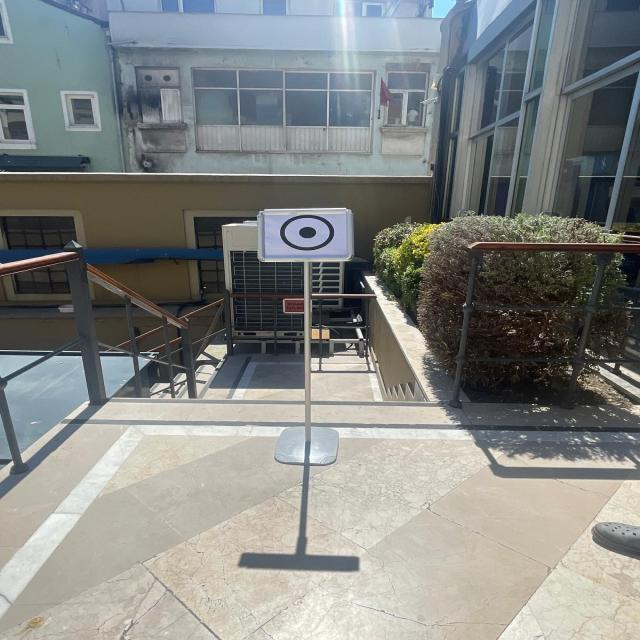Target: (243, 192, 373, 278)
inner: (294, 222, 321, 242)
